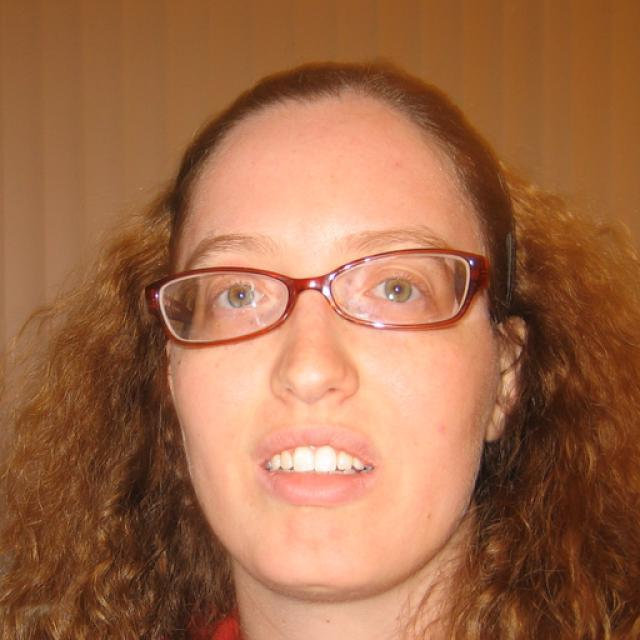disgust: (163, 91, 498, 600)
